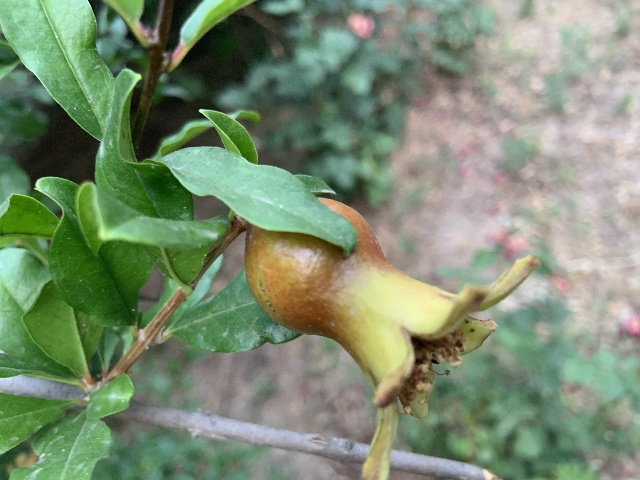early-fruit: (244, 197, 537, 480)
